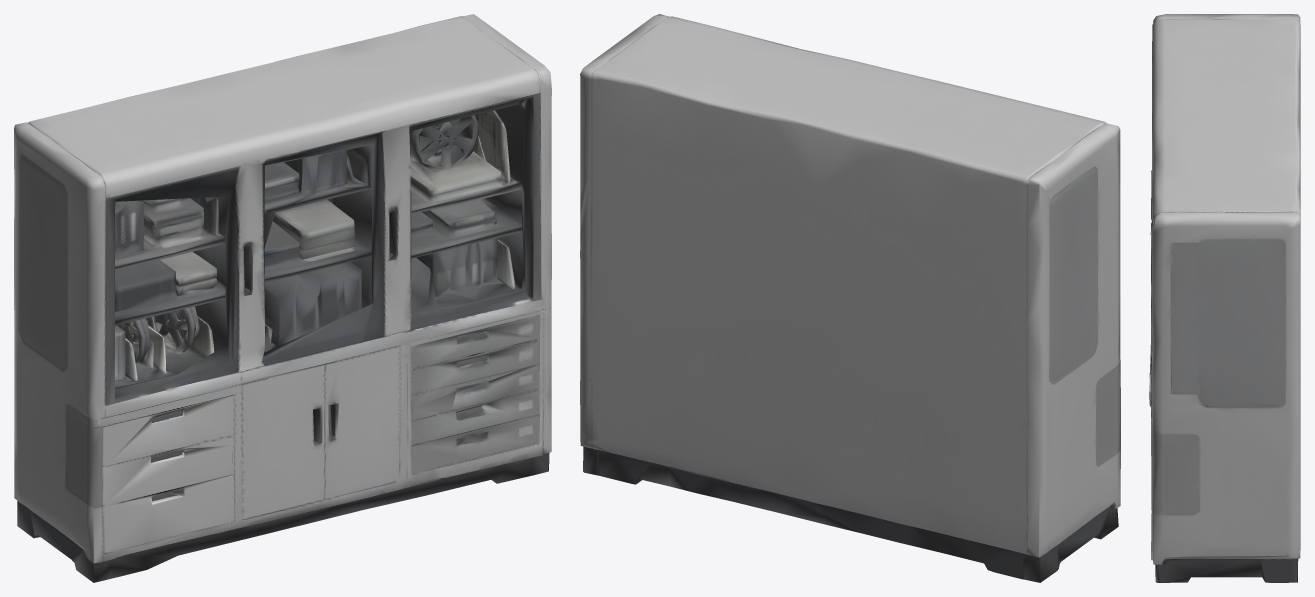
The model's file is ENV_ALL_074_v001_RAW.glb.glb.
The picture shows the model from 3 angles, left to right: view 1: azimuth 30°, elevation 25°; view 2: azimuth 150°, elevation 25°; view 3: azimuth 270°, elevation 25°; orthographic projection. The views are drawn at different scales.
Visible parts, largest first — view 1: tripo_node_4b082b15-3ca0-49c4-a5e8-4232795a51c0; view 2: tripo_node_4b082b15-3ca0-49c4-a5e8-4232795a51c0; view 3: tripo_node_4b082b15-3ca0-49c4-a5e8-4232795a51c0.
Part boxes in pixels (x1=…): tripo_node_4b082b15-3ca0-49c4-a5e8-4232795a51c0: x1=14, y1=14, x2=551, y2=582; tripo_node_4b082b15-3ca0-49c4-a5e8-4232795a51c0: x1=580, y1=14, x2=1120, y2=582; tripo_node_4b082b15-3ca0-49c4-a5e8-4232795a51c0: x1=1149, y1=14, x2=1300, y2=582.
Bounding box in the file's own units: 0.9793 × 0.8137 × 0.304.
1 material, 1 textured.
